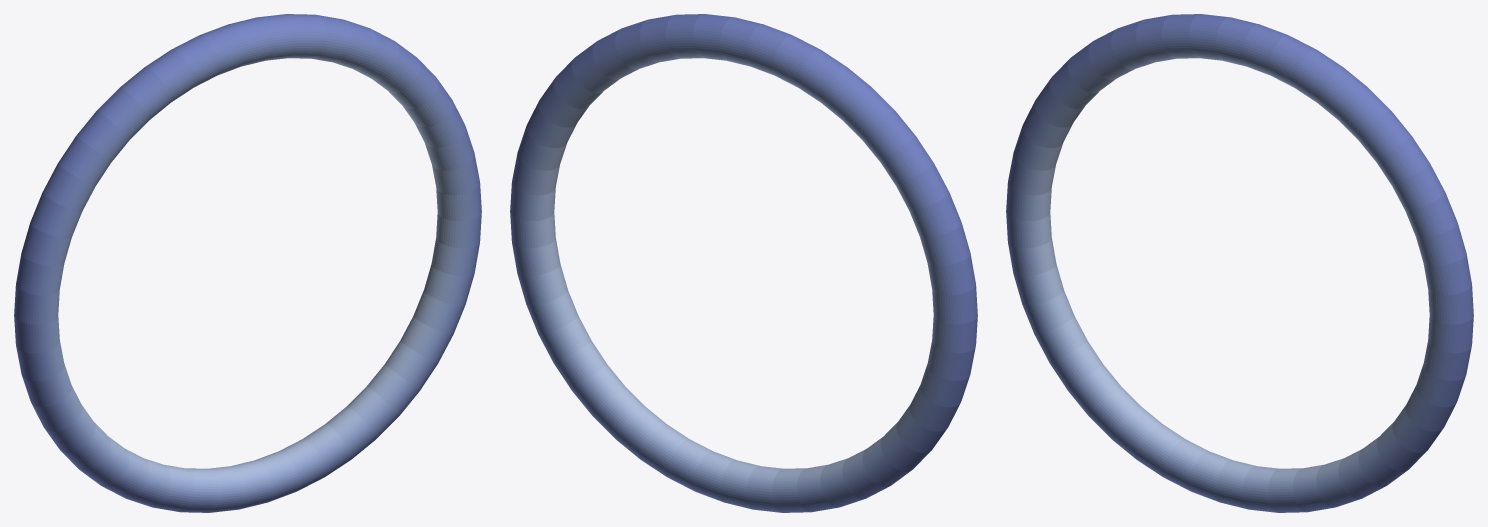
3 views of the same model, side by side, from view 1: azimuth 30°, elevation 25°; view 2: azimuth 150°, elevation 25°; view 3: azimuth 330°, elevation 25° (orthographic).
Visible parts, largest first — view 1: world; view 2: world; view 3: world.
Boxes of the visible parts, <box> form: world: <box>14,14,481,512</box>; world: <box>510,14,977,512</box>; world: <box>1006,14,1473,512</box>.
Bounding box in the file's own units: 30.53 × 30.47 × 2.53.
